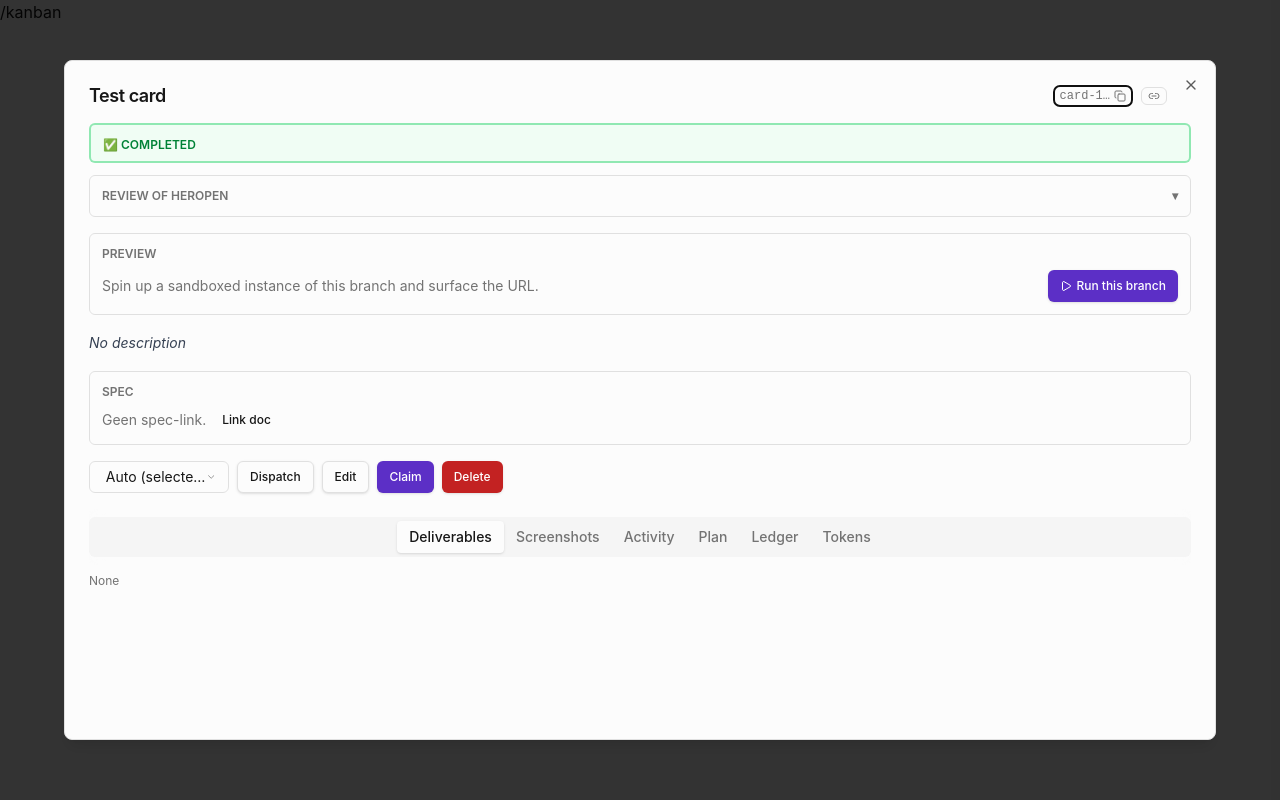
Test case: CardDrawer feedback control › renders the already-reopen state and keeps the Review button available
Click the button with test id "done-actions-toggle": coordinates (165, 196) [102, 188, 1178, 204]
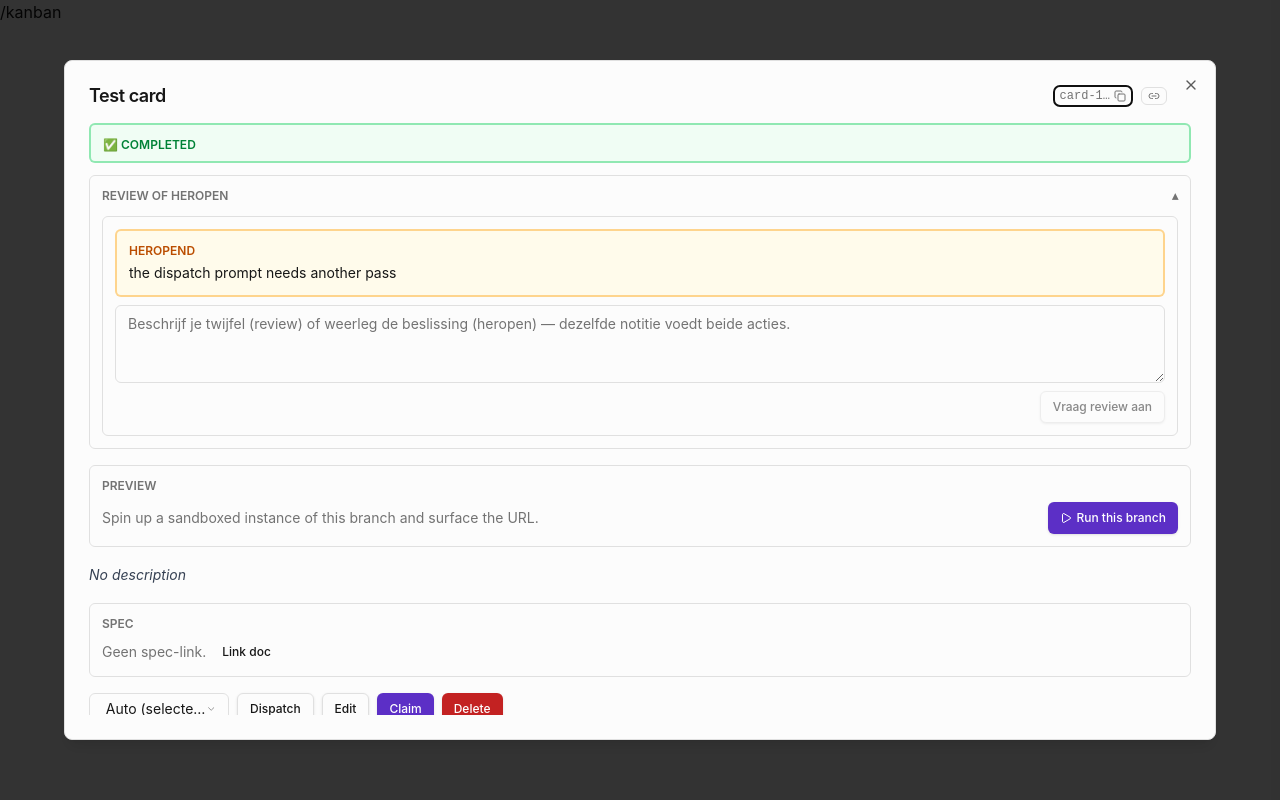
Check: the element with test id "reopen-requested-state" shows "the dispatch prompt needs another pass", box [129, 264, 396, 281]
Check: the button with test id "feedback-submit-review" is shown, box [1040, 391, 1165, 423]
